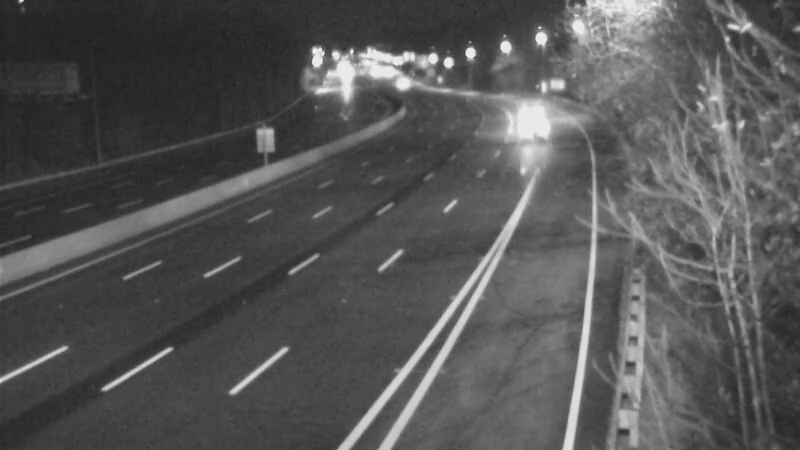vehicle: (376, 59, 426, 109), (504, 88, 554, 138), (513, 111, 563, 161)
